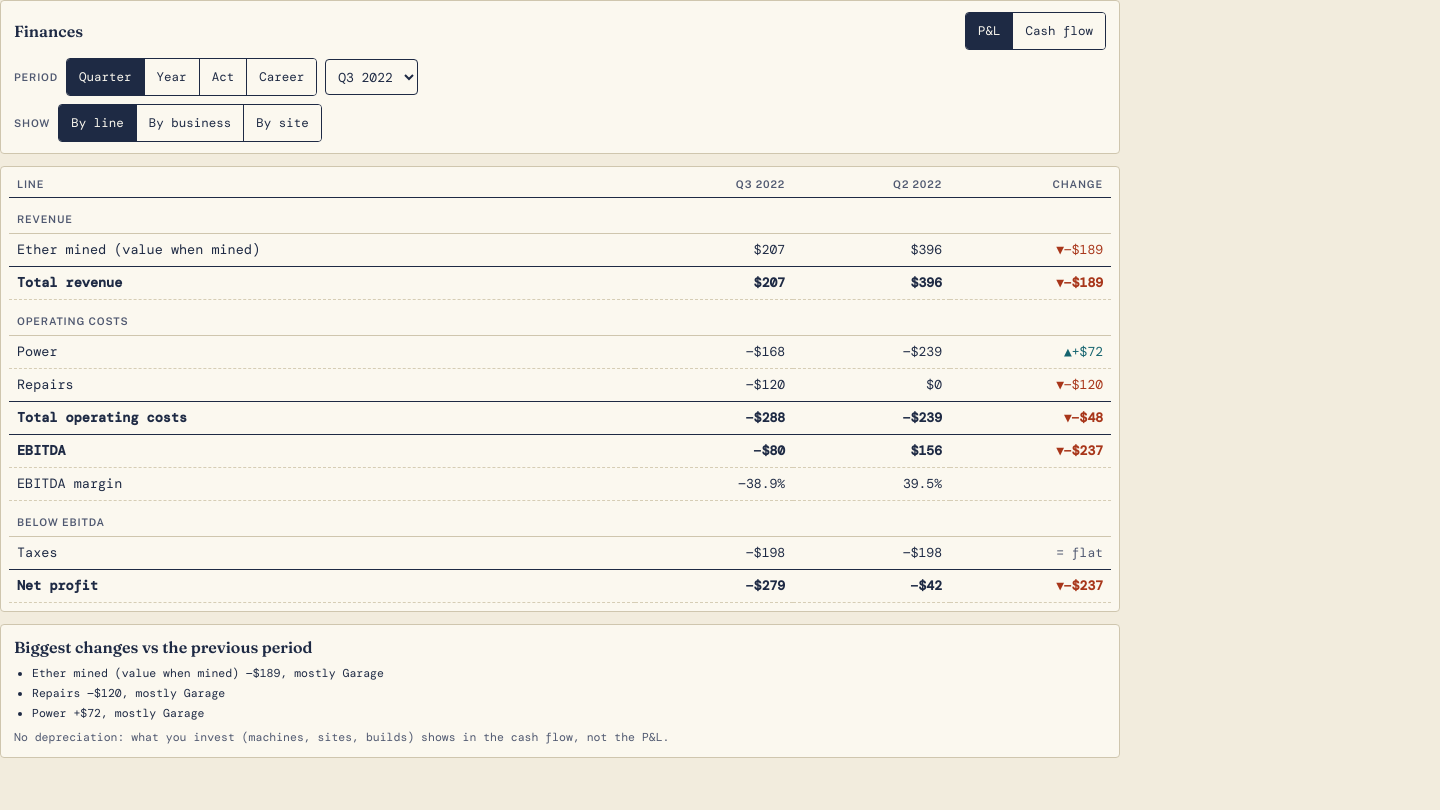
Test case: the Finances section › by business and by site
This screenshot has width=1440, height=810.
Click the button "By business": (190, 123) [136,105,243,141]
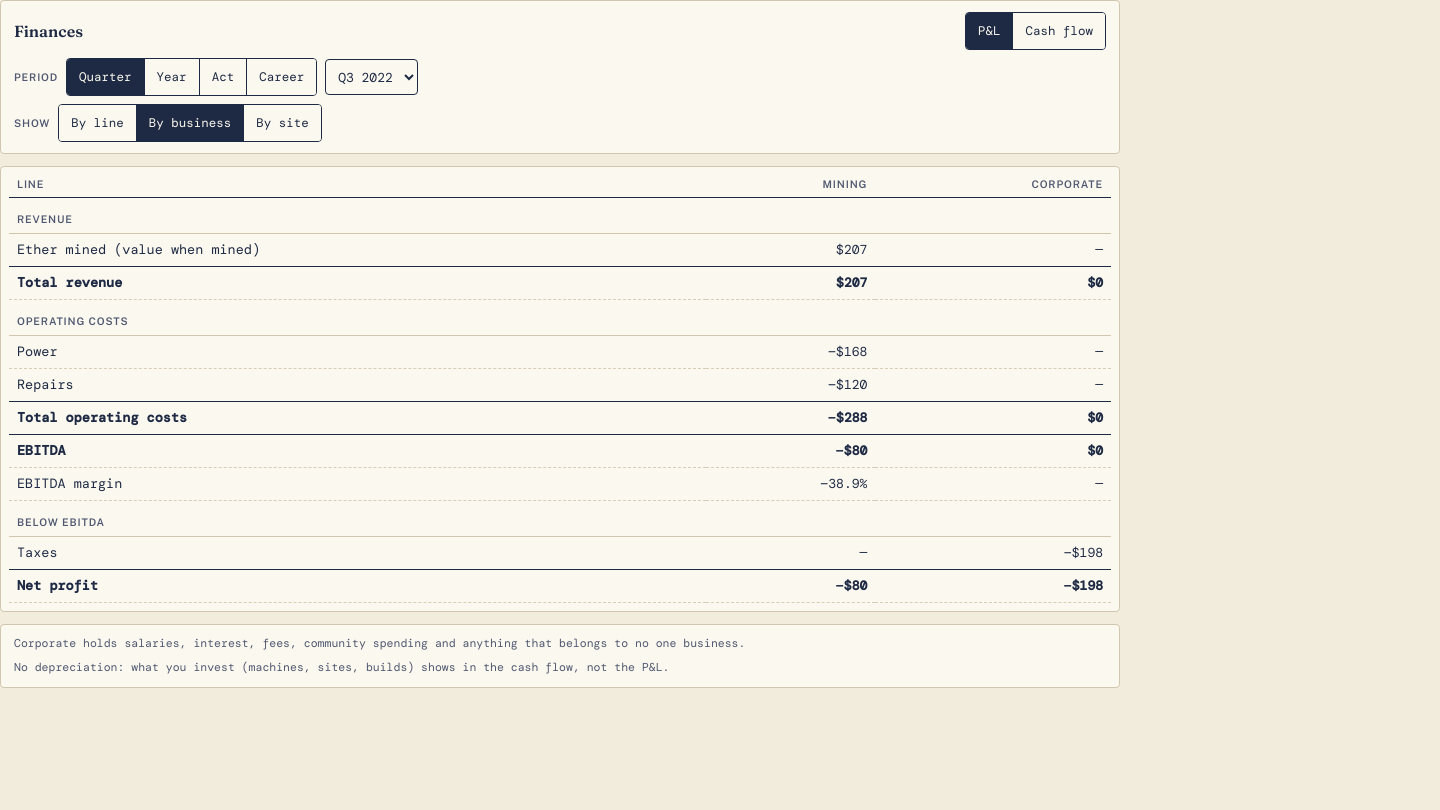
Expected: the text "Mining" is shown, [706,171,875,198]
Click the button "By site": (282, 123) [243,105,321,141]
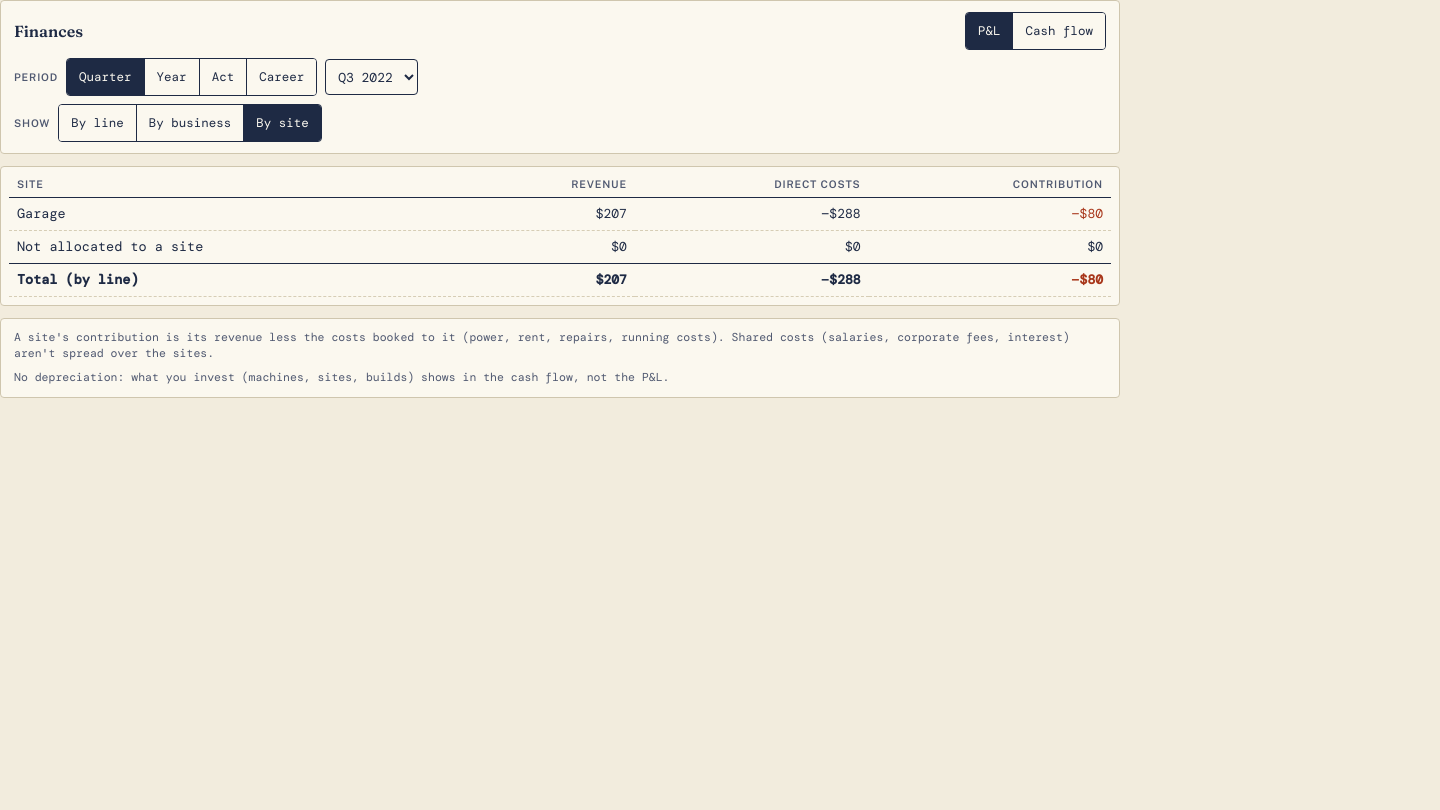
Expected: the text "Not allocated to a site" is shown, [9,230,471,264]
Expected: the text "Garage" is shown, [9,198,471,230]
